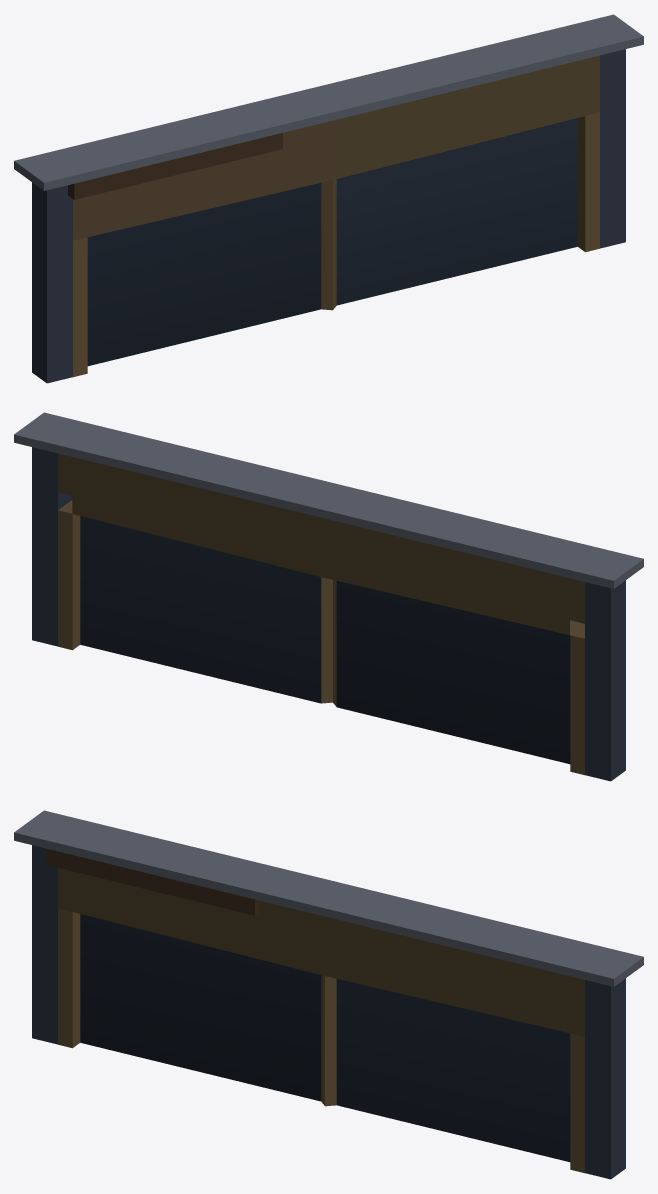
Rendered from lock-gate-structure.glb.
3 renders of one model, top to bottom at view 1: azimuth 30°, elevation 25°; view 2: azimuth 150°, elevation 25°; view 3: azimuth 330°, elevation 25°, orthographic.
Parts seen in each view (by area): view 1: Lock-gate-structureBody; view 2: Lock-gate-structureBody; view 3: Lock-gate-structureBody.
Part boxes in pixels (x1,y1,x2,y2): Lock-gate-structureBody: [14, 14, 643, 383]; Lock-gate-structureBody: [14, 412, 643, 781]; Lock-gate-structureBody: [14, 810, 643, 1179].
Bounding box in the file's own units: 11.5 × 3.83 × 1.
